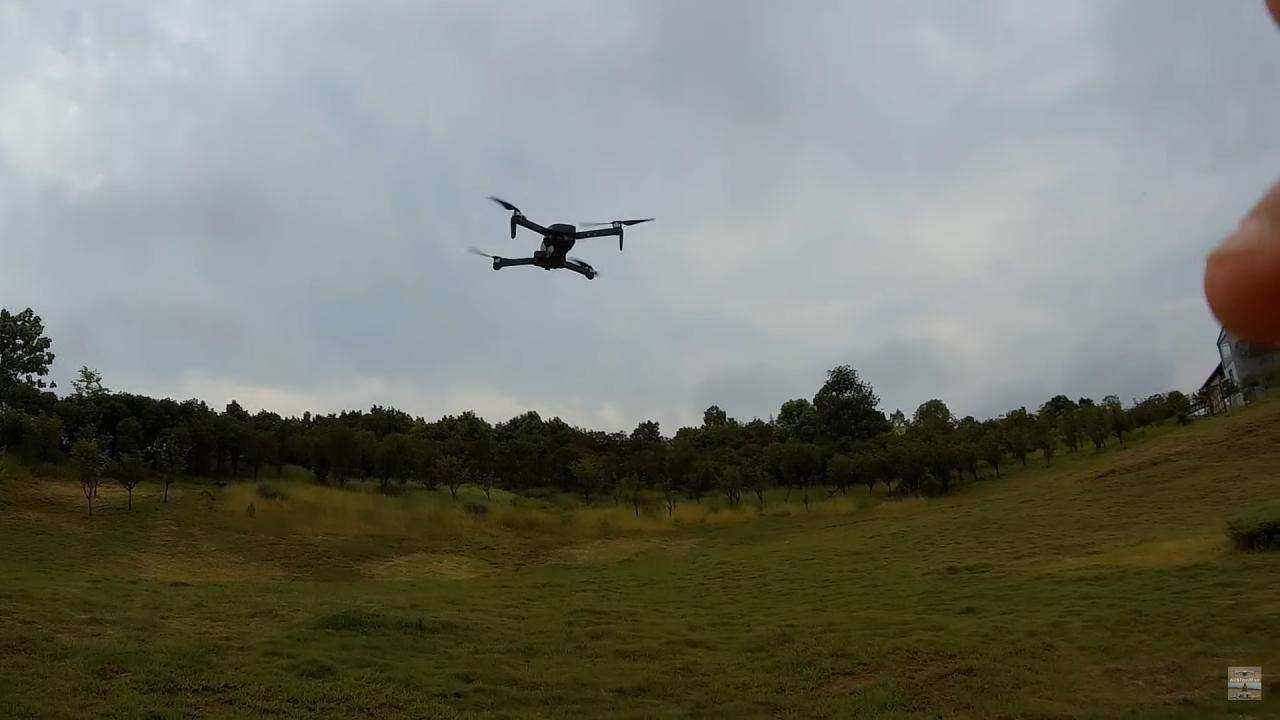Drone: (457, 184, 666, 296)
